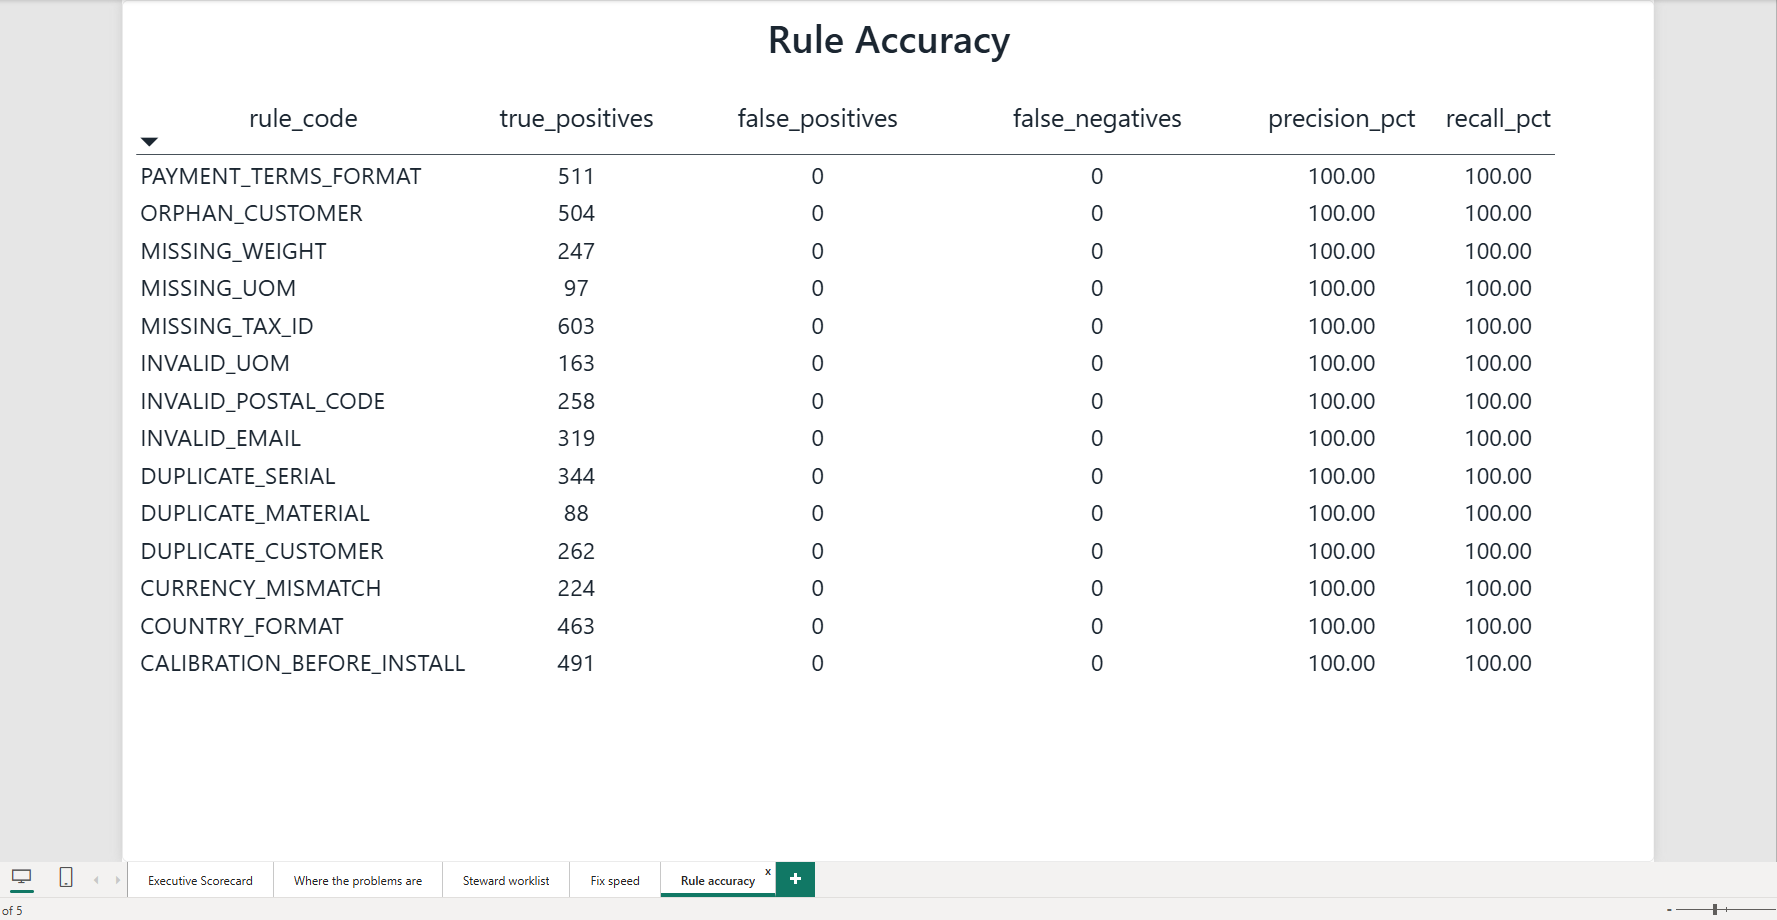

What the dashboard file says about the page in this screenshot:
{"tool":"powerbi","page":{"name":"Rule accuracy","canvas":[1920,1080],"ordinal":4},"visuals":[{"type":"tableEx","title":"Rule Accuracy","fields":{"Values":["dq_rule_validation.rule_code","Sum(dq_rule_validation.true_positives)","Sum(dq_rule_validation.false_positives)","Sum(dq_rule_validation.false_negatives)","dq_rule_validation.precision_pct","dq_rule_validation.recall_pct"]},"box":[0,0,1920,1080],"z":0}]}

Visuals, with their boxes on the page's 1920x1080 design canvas (x1, y1, x2, y2). These are canvas units, not pixel positions in the 1777x920 screenshot, which may show the page scaled, cropped or inside an application window:
"Rule Accuracy" tableEx: pyautogui.locateOnScreen(0, 0, 1920, 1080)
